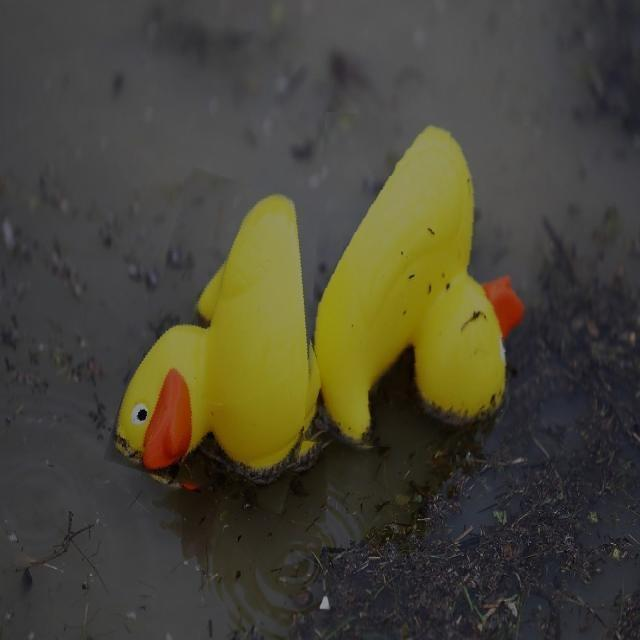rubber-duck: (314, 126, 517, 440), (115, 194, 318, 476)
